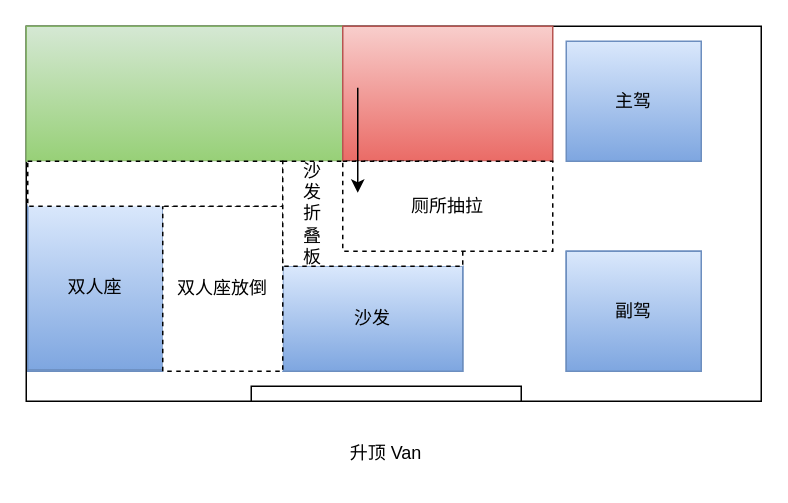
This 788x503 diagram has some shape labels left out. Here are the shapes that lost their labels. From the top down, the box of each, then its label:
(25, 25, 343, 161): 一排柜子&厨房
(341, 25, 553, 161): 抽拉卫生间， 车顶/车侧带排气扇
(26, 160, 283, 206): 折叠板
